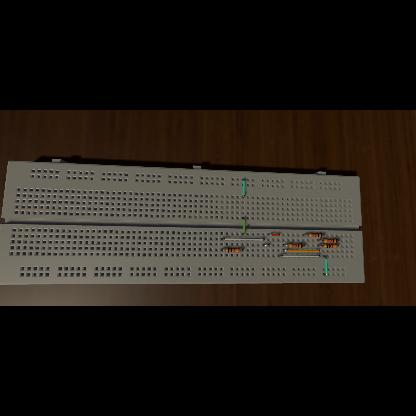breadboard: (0, 159, 364, 285)
resistor: (308, 234, 324, 238), (288, 244, 304, 248), (322, 244, 338, 248), (324, 239, 338, 243), (226, 249, 240, 253)
wire: (322, 256, 328, 276), (222, 238, 264, 240), (278, 255, 320, 257), (242, 180, 246, 198), (284, 250, 320, 252), (242, 218, 246, 234), (268, 234, 280, 236), (262, 244, 270, 246), (303, 234, 309, 236), (318, 240, 324, 242), (283, 245, 289, 247), (318, 245, 324, 247), (338, 240, 340, 242), (303, 245, 305, 247), (221, 249, 225, 250), (241, 249, 243, 250), (324, 235, 324, 236)
